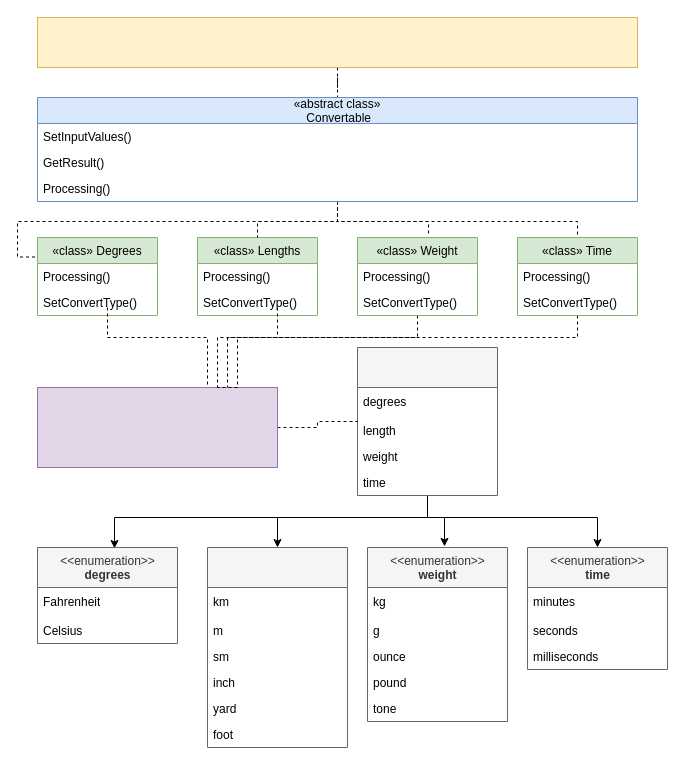
This 685x768 diagram has some shape labels left out. The shapes that lost their labels are listed below. From the top down, each one's box as (x1, y1, x2, y2) in pixels, then its label:
(36, 16, 638, 68): «interface» iConverter
(36, 386, 278, 468): Processing() input result
(356, 346, 498, 496): <<enumeration>> measures
(206, 546, 348, 748): <<enumeration>> length
